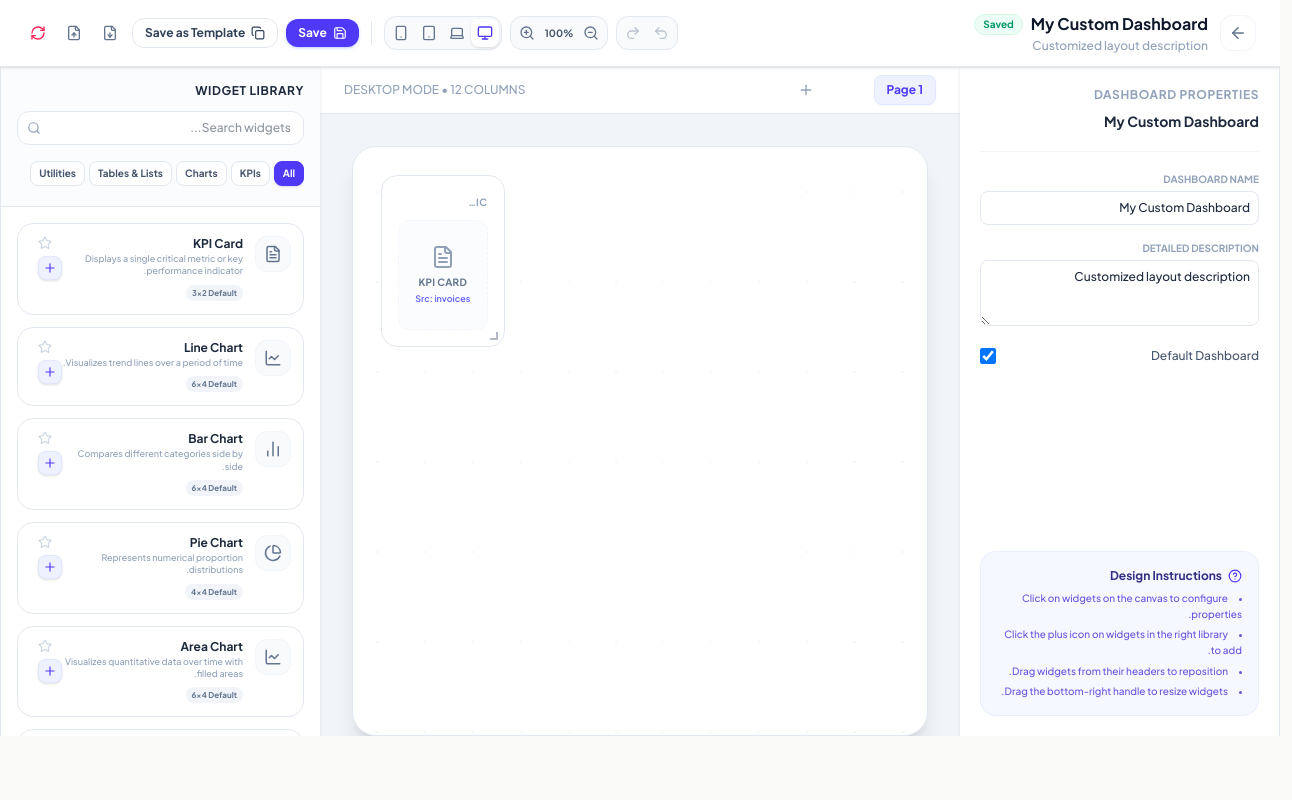
Test case: DashboardBuilder Page - Drag & Drop Visual Designer › selects a widget on click and displays its properties in the Left Panel
Click the text "Net Profit Metric": (477, 202) [466, 194, 488, 210]
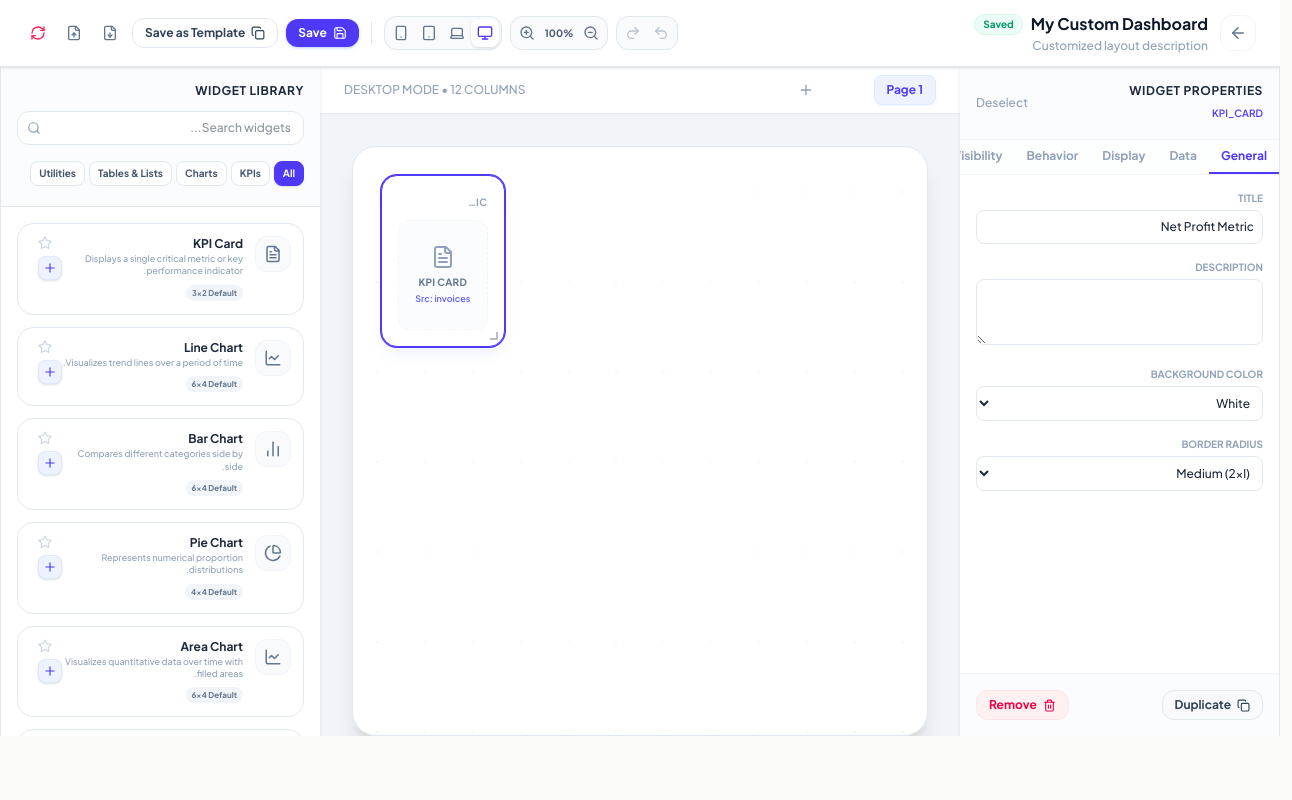
Result: the field showing "Net Profit Metric" is shown at [976, 210, 1263, 244]
Result: the button "Data" is shown
Click the button "Data": (1183, 157) [1157, 140, 1209, 174]
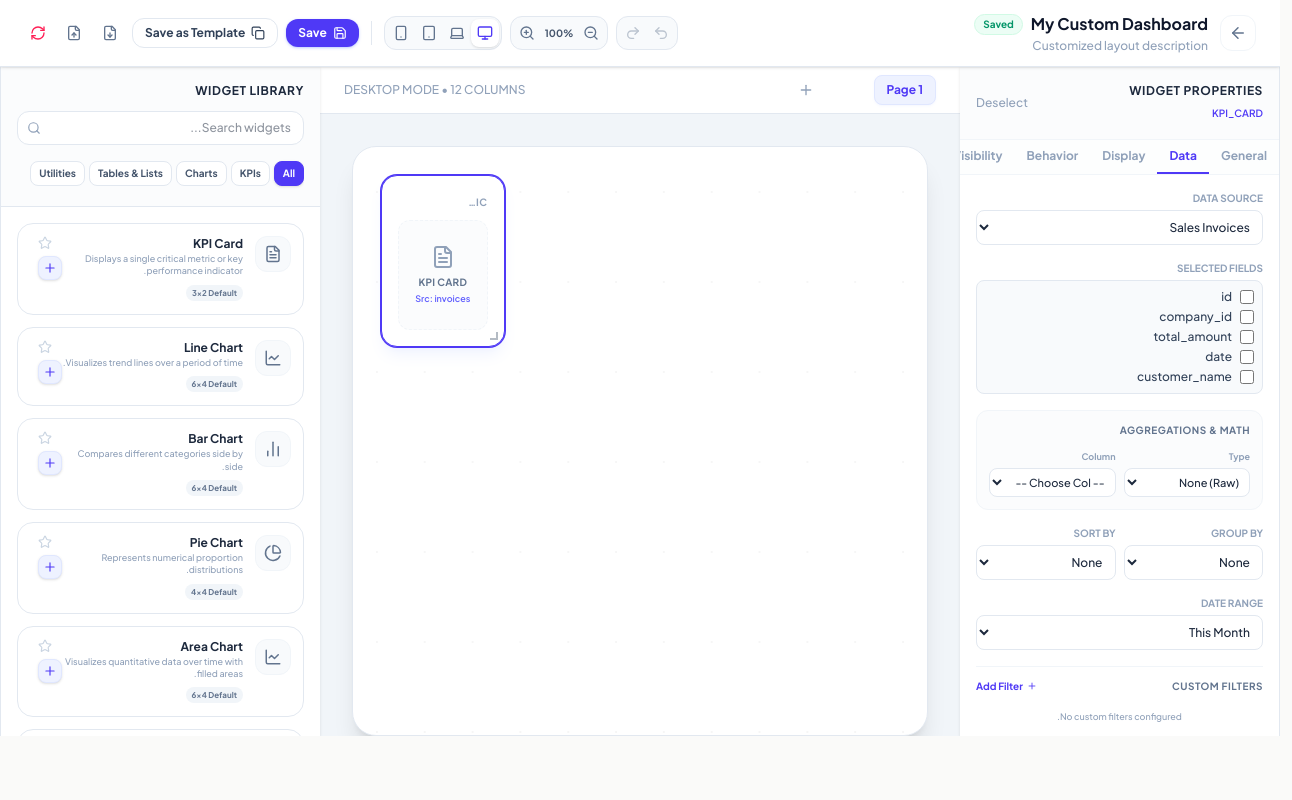
Result: the dropdown showing "Sales Invoices" below "Data Source" is shown at [976, 210, 1263, 245]
